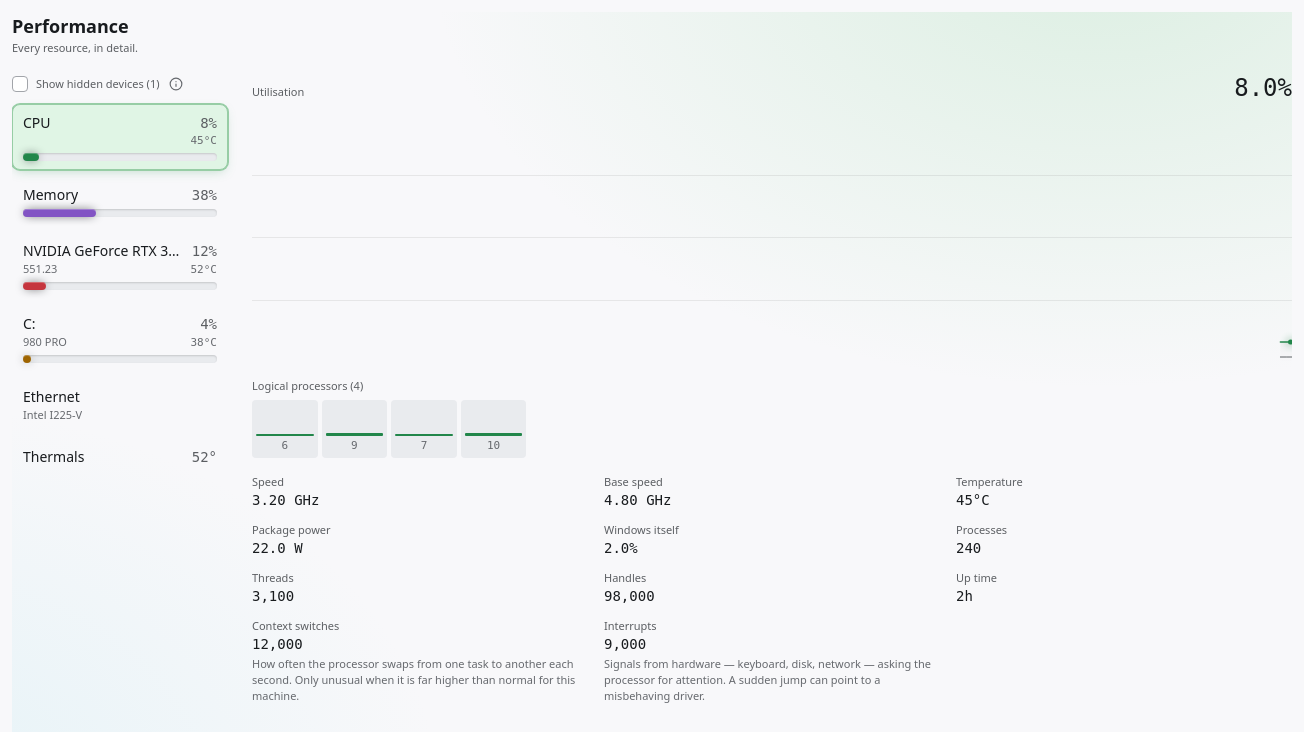
Test: PerformanceScreen › hides virtual adapters until "show hidden" is ticked
Expected: the button "WSL" is not shown
Click the checkbox named "Show hidden devices (1)": [20, 84] box [12, 76, 28, 92]
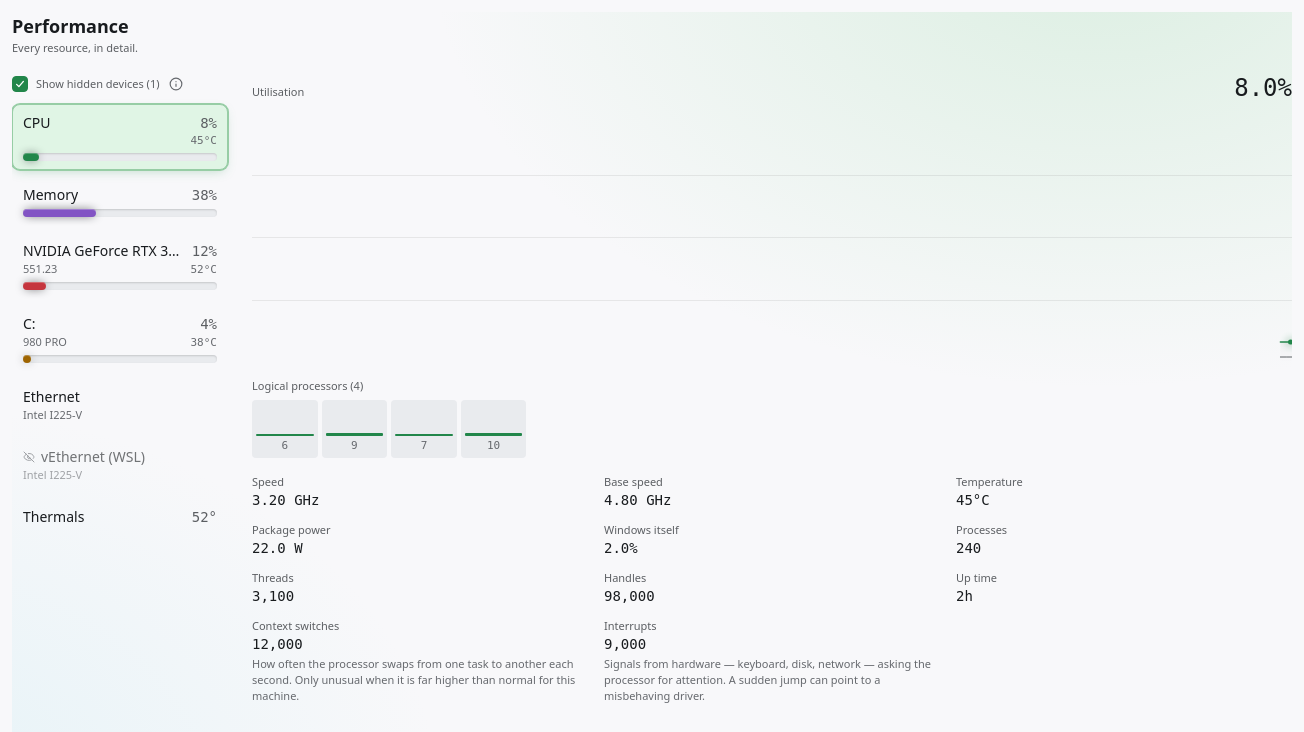
Now the button "vEthernet (WSL) Intel I225-V" is shown, box [12, 438, 228, 492]
